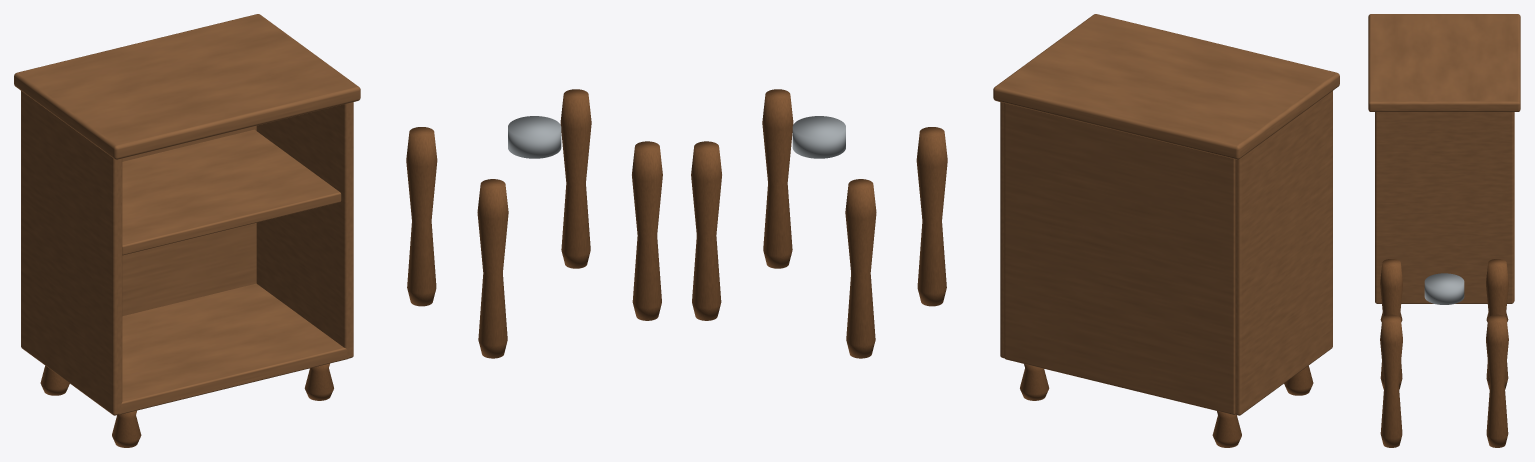
The model's file is static.glb.
3 views of the same model, side by side, from view 1: azimuth 30°, elevation 25°; view 2: azimuth 150°, elevation 25°; view 3: azimuth 270°, elevation 25° (orthographic). The views are drawn at different scales.
Visible parts, largest first — view 1: Cabinet top, Cabinet side, Cabinet bottom, Inner shelf, Cabinet side.001, Cabinet back, Chair legs-0, Chair legs-3, Chair legs-2, Chair legs-1, Swivel collar, Cabinet legs-0 (+1 smaller); view 2: Cabinet back, Cabinet top, Cabinet side, Chair legs-2, Chair legs-1, Chair legs-0, Chair legs-3, Swivel collar, Cabinet side.001, Cabinet legs-2, Cabinet legs-3; view 3: Cabinet side.001, Cabinet top, Chair legs-1, Chair legs-3, Chair legs-0, Chair legs-2, Swivel collar, Cabinet back.
Part boxes in pixels (x1,y1,x2,y2): Cabinet top: (14, 14, 360, 159); Cabinet side: (21, 91, 122, 415); Cabinet bottom: (119, 283, 348, 414); Inner shelf: (122, 129, 341, 255); Cabinet side.001: (256, 102, 353, 358); Cabinet back: (122, 125, 256, 316); Chair legs-0: (477, 179, 508, 358); Chair legs-3: (560, 89, 591, 268); Chair legs-2: (406, 127, 437, 306); Chair legs-1: (632, 141, 662, 320); Swivel collar: (508, 116, 561, 158); Cabinet legs-0: (112, 410, 141, 447); Cabinet back: (1004, 103, 1235, 414); Cabinet top: (993, 14, 1339, 159); Cabinet side: (1235, 91, 1332, 415); Chair legs-2: (845, 179, 876, 358); Chair legs-1: (762, 89, 793, 268); Chair legs-0: (916, 127, 947, 306); Chair legs-3: (691, 141, 721, 320); Swivel collar: (792, 116, 845, 158); Cabinet side.001: (1000, 102, 1004, 358); Cabinet legs-2: (1212, 411, 1241, 447); Cabinet legs-3: (1020, 364, 1049, 400); Cabinet side.001: (1375, 112, 1513, 303); Cabinet top: (1368, 14, 1520, 111); Chair legs-1: (1380, 314, 1402, 447); Chair legs-3: (1486, 314, 1508, 447); Chair legs-0: (1380, 259, 1402, 389); Chair legs-2: (1486, 259, 1508, 389); Swivel collar: (1424, 273, 1464, 304); Cabinet back: (1514, 112, 1514, 301).
Bounding box in the file's own units: 1.45 × 0.7775 × 0.46.
Materials: 15 (15 with a texture image).
